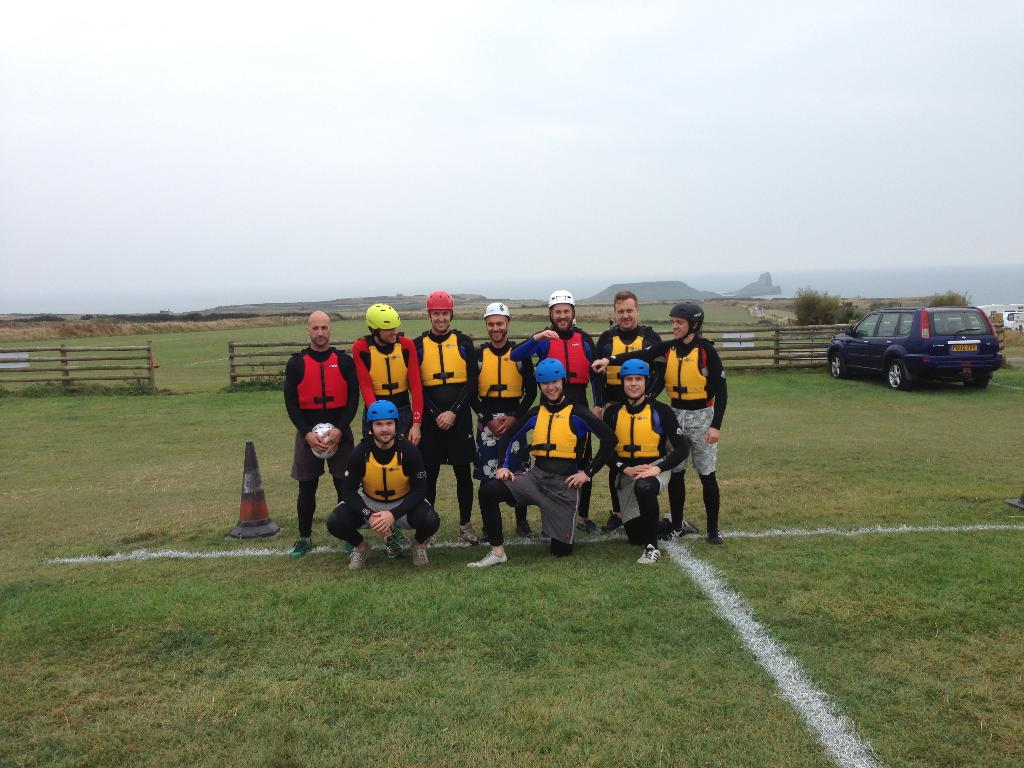Car: (828, 296, 1002, 391)
